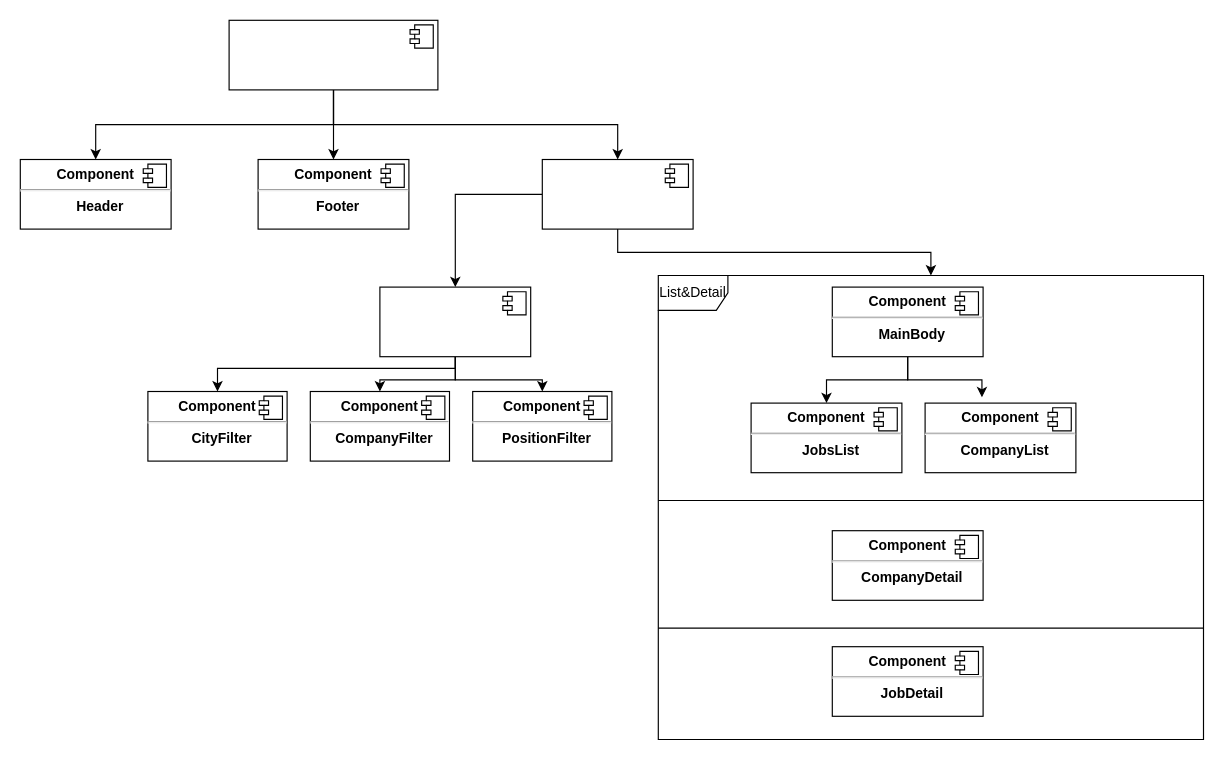
This 1224x760 diagram has some shape labels left out. Here are the shapes that lost their labels. From the top down, the centre of each, then its label:
At (x=333, y=54): "Component App".
At (x=617, y=193): "Component Home".
At (x=455, y=321): "Component Filters".
